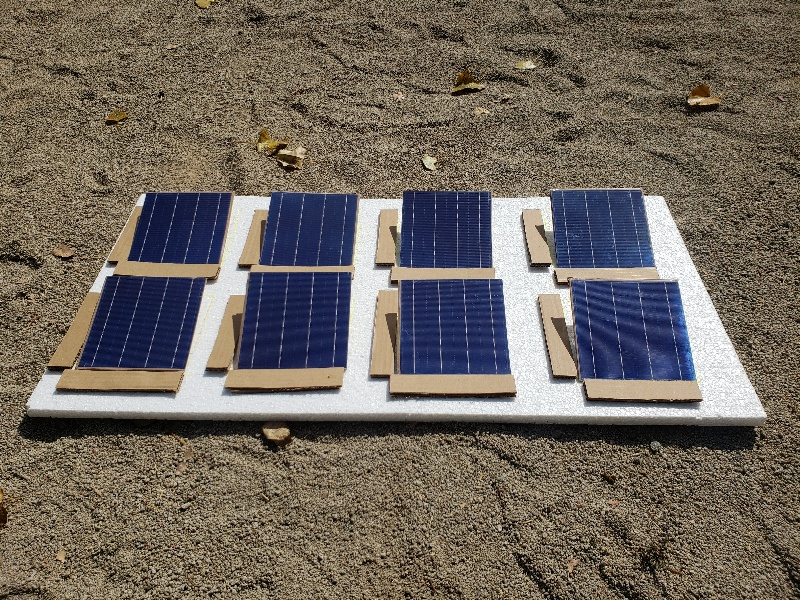clean: (570, 279, 699, 382), (77, 275, 206, 371), (390, 280, 517, 376), (232, 274, 360, 368), (547, 188, 658, 269), (396, 191, 498, 270), (126, 191, 234, 264), (257, 191, 357, 264)
